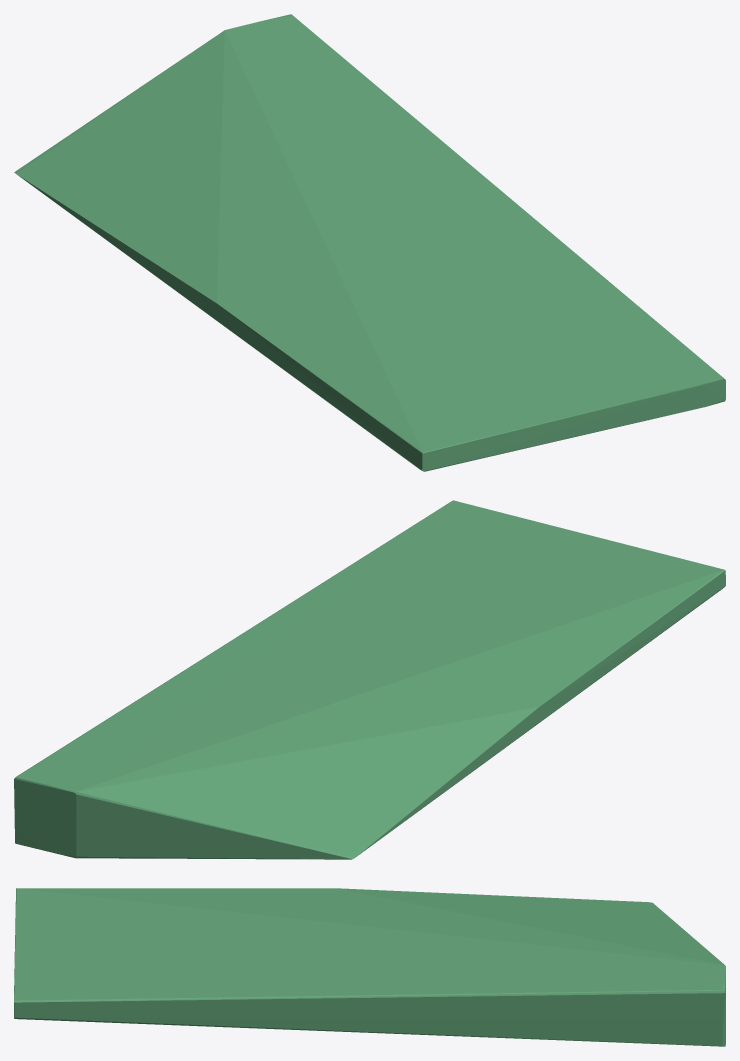
Rendered from wire_machineGuard_a02.glb.
The picture shows the model from 3 angles, top to bottom: view 1: azimuth 30°, elevation 25°; view 2: azimuth 150°, elevation 25°; view 3: azimuth 270°, elevation 25°; orthographic projection. The views are drawn at different scales.
Visible parts, largest first — view 1: geometry_0; view 2: geometry_0; view 3: geometry_0.
Boxes of the visible parts, bbox=[...] form: geometry_0: bbox=[14, 14, 725, 471]; geometry_0: bbox=[14, 500, 725, 859]; geometry_0: bbox=[14, 888, 725, 1046].
Bounding box in the file's own units: 0.1976 × 0.0424 × 0.48.
